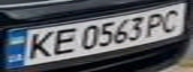0: (78, 21, 100, 51)
3: (127, 15, 148, 42)
5: (97, 19, 118, 47)
6: (112, 17, 133, 44)
C: (157, 6, 190, 34)
E: (45, 26, 78, 56)
K: (18, 29, 60, 61)
P: (142, 10, 169, 38)
